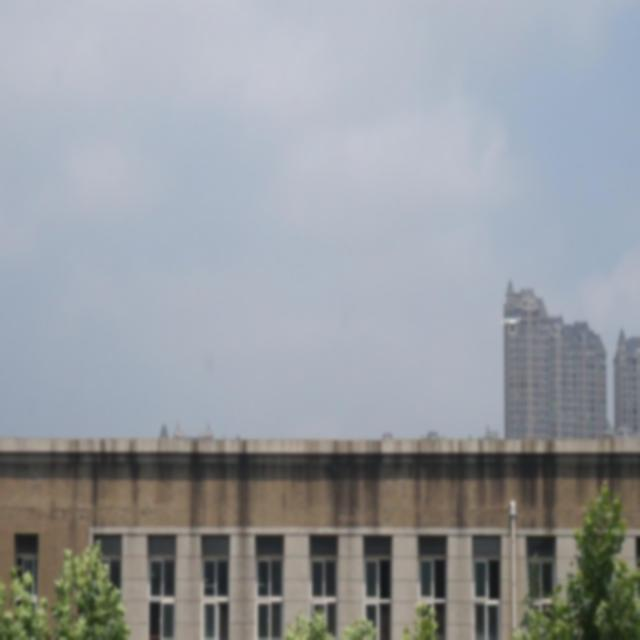UAV: (500, 318, 522, 334)
